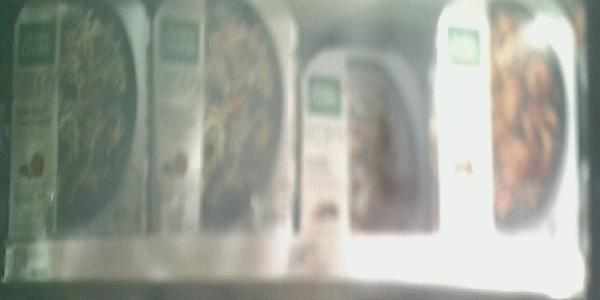pizza1: (436, 1, 588, 247), (152, 1, 295, 234), (7, 5, 149, 238), (301, 49, 437, 236)
